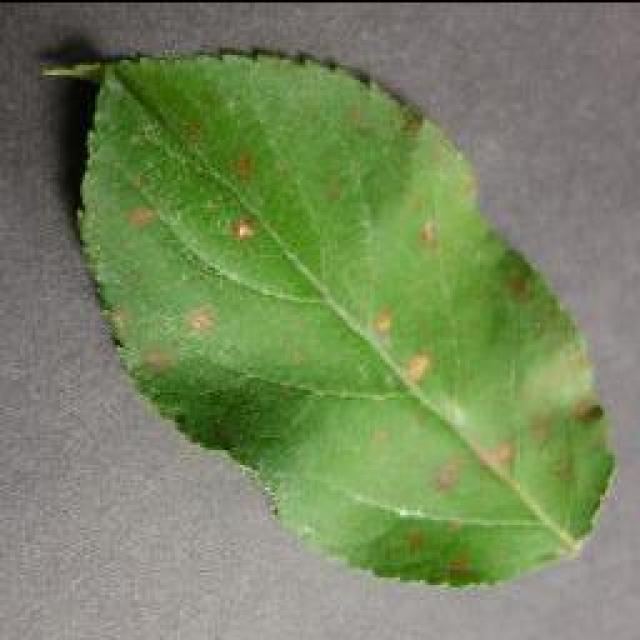apple rust disease: (40, 42, 618, 590)
